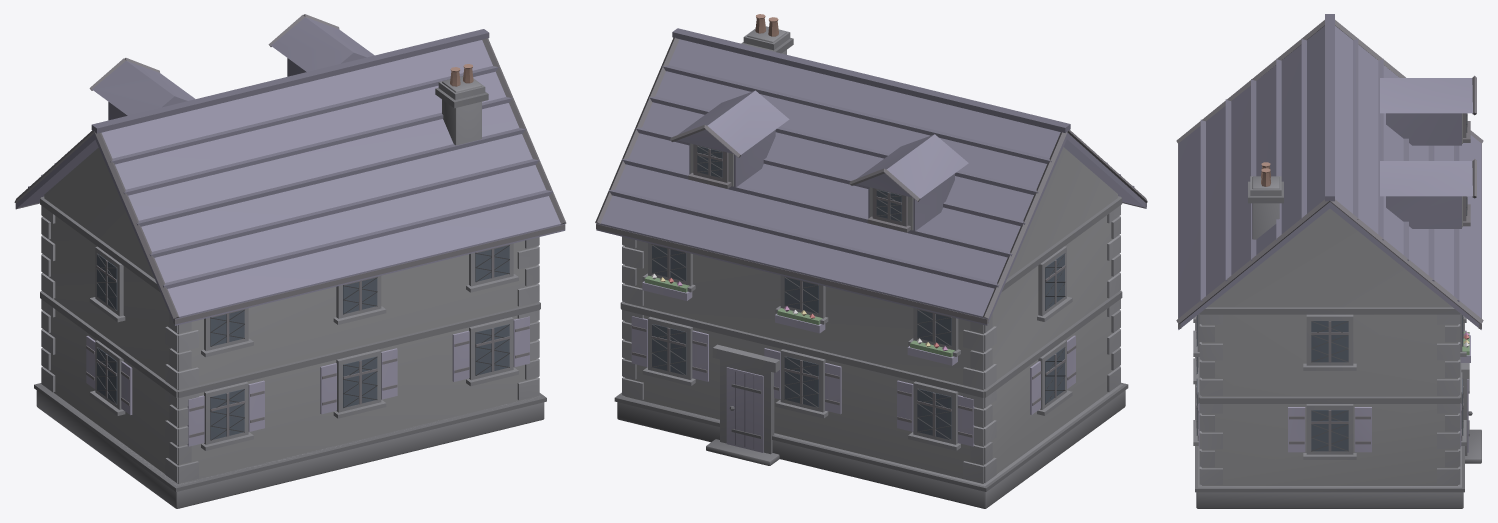
The model's file is hall_storm.gltf.
The picture shows the model from 3 angles, left to right: view 1: azimuth 30°, elevation 25°; view 2: azimuth 150°, elevation 25°; view 3: azimuth 270°, elevation 25°; orthographic projection. The views are drawn at different scales.
Parts seen in each view (by area): view 1: Body; view 2: Body; view 3: Body.
Part boxes in pixels (bbox=[...]): Body: bbox=[14, 14, 566, 508]; Body: bbox=[595, 14, 1147, 508]; Body: bbox=[1176, 14, 1483, 508].
Bounding box in the file's own units: 10.97 × 8.99 × 7.81.
